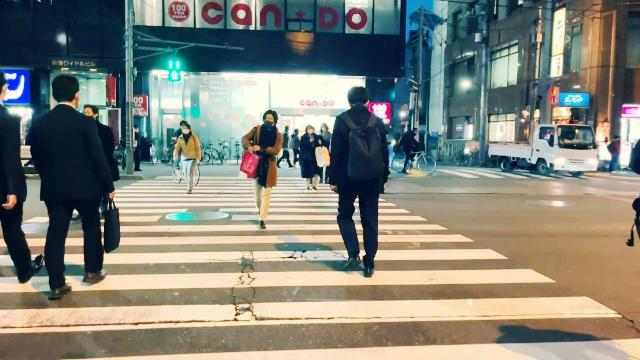berjalan: (42, 68, 121, 294), (329, 83, 395, 283), (240, 105, 284, 231)
